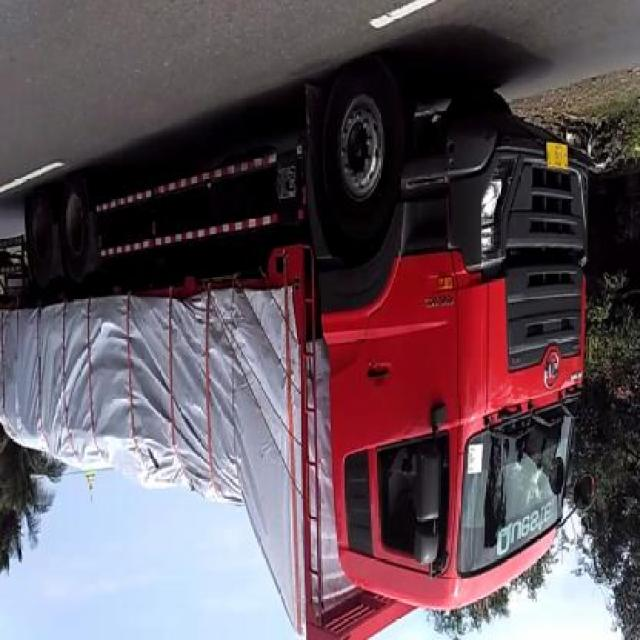truck: (1, 58, 595, 640)
